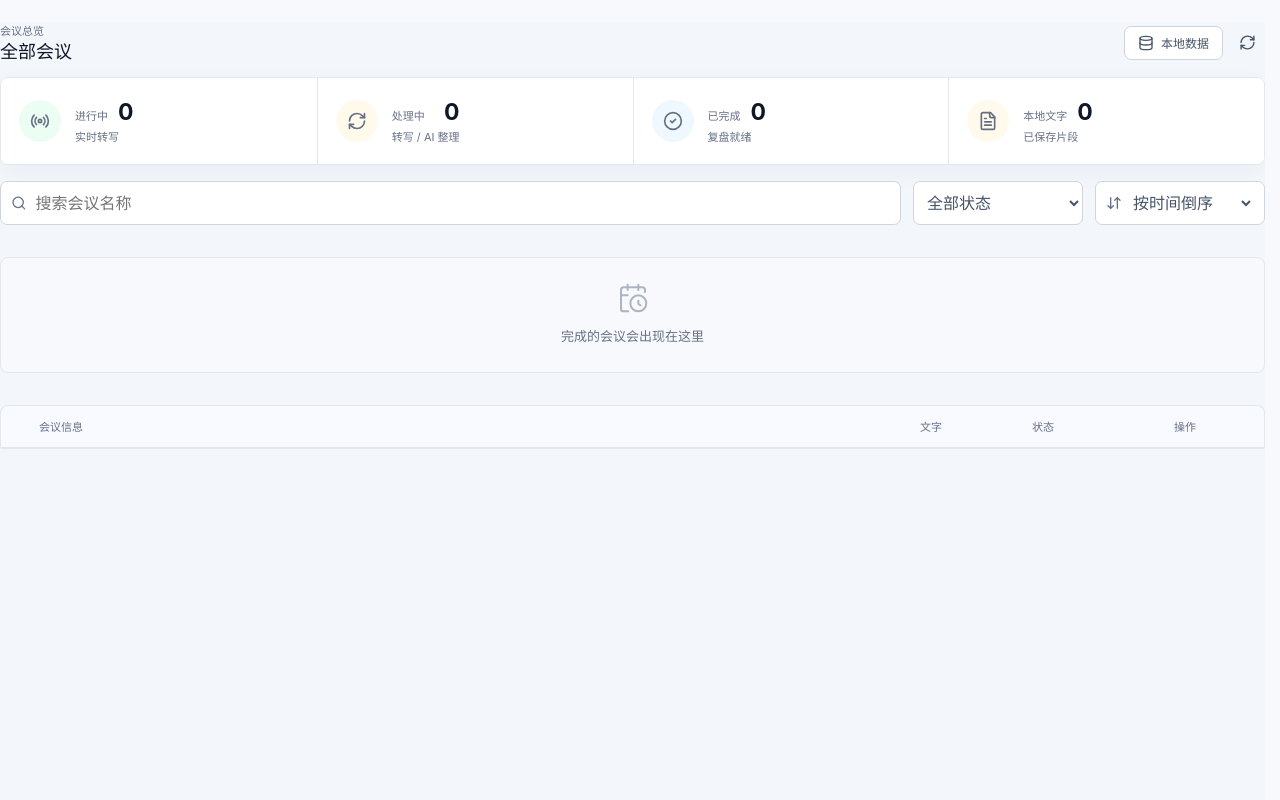
Scenario: MeetingHistory › loads and saves the local retention policy
The width and height of the screenshot is (1280, 800).
Click the button "本地数据": (1174, 43) [1124,26,1223,60]
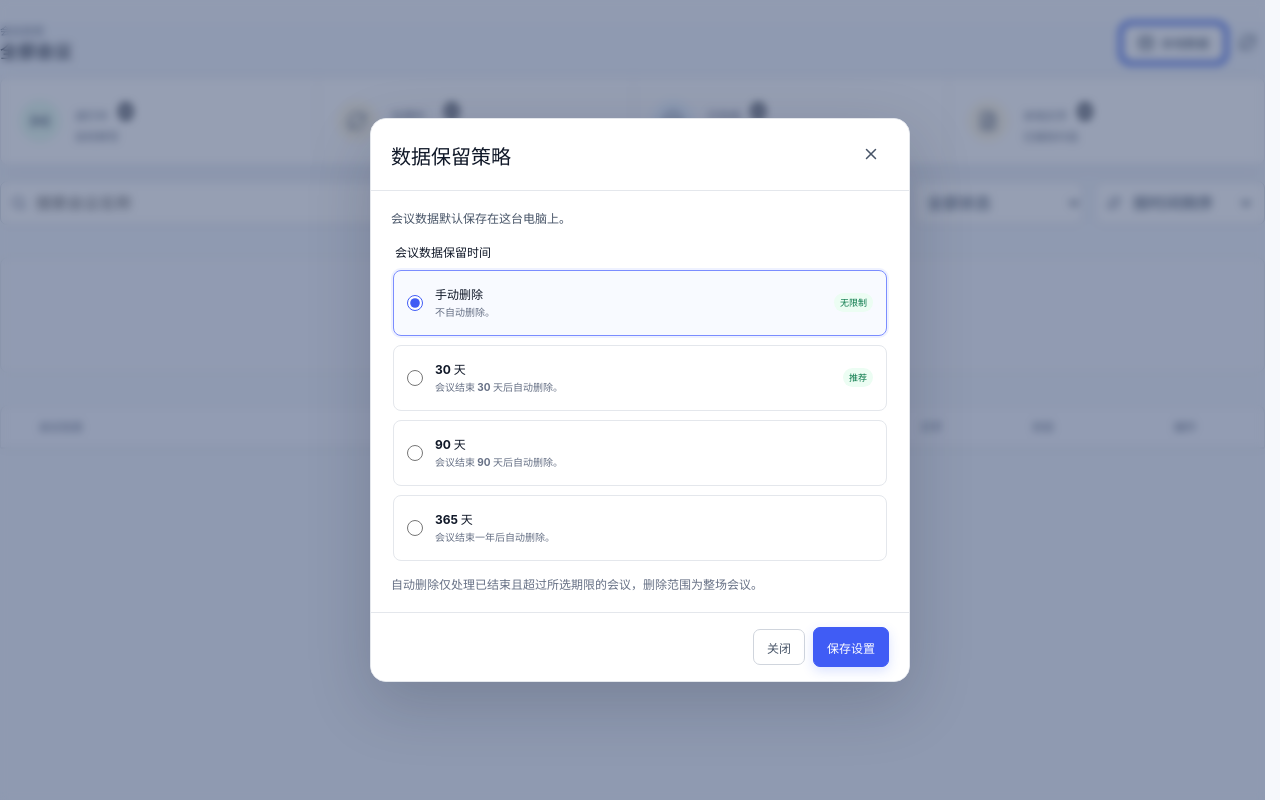
Result: the radio button labelled "手动删除 不自动删除。 无限制" is checked at [407,294,423,310]
Click the radio button labelled "90 天 会议结束 90 天后自动删除。": (415, 452) [407,444,423,460]
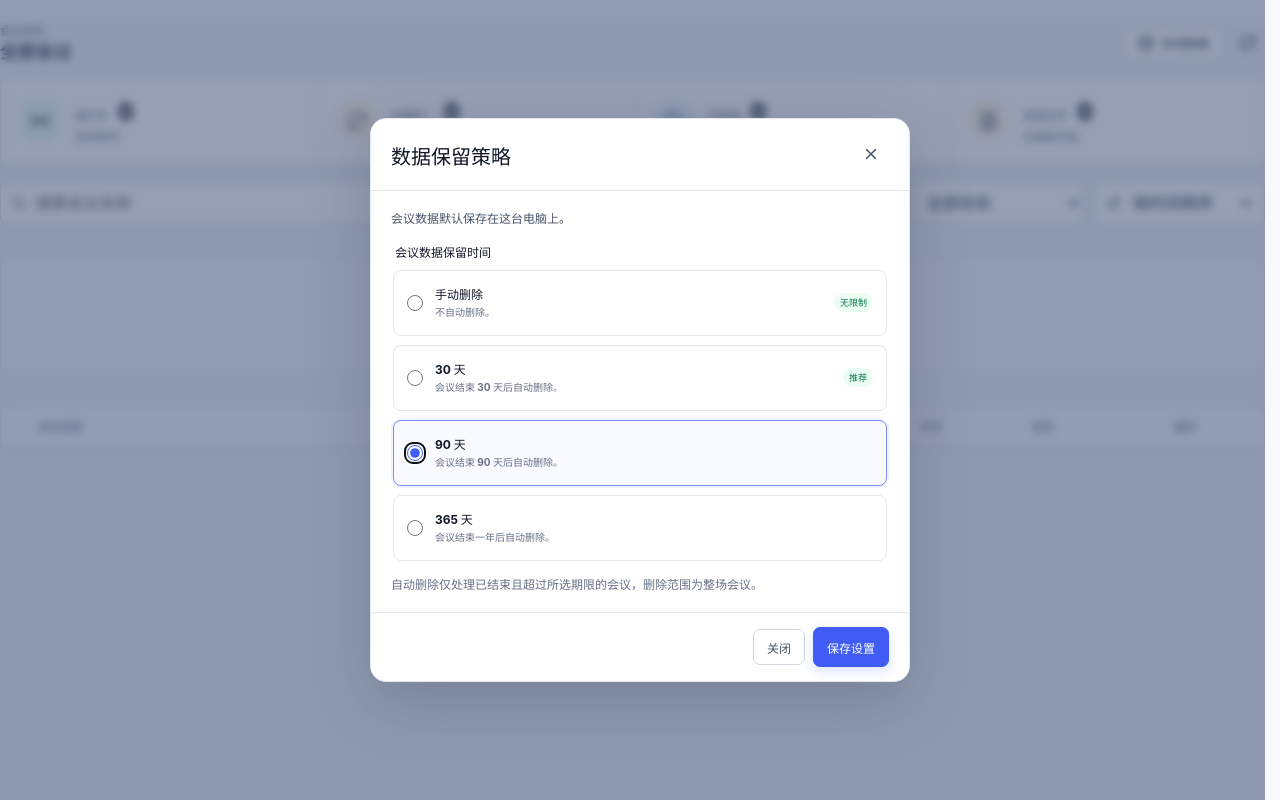
Click the button "保存设置": (851, 647) [813,627,889,667]
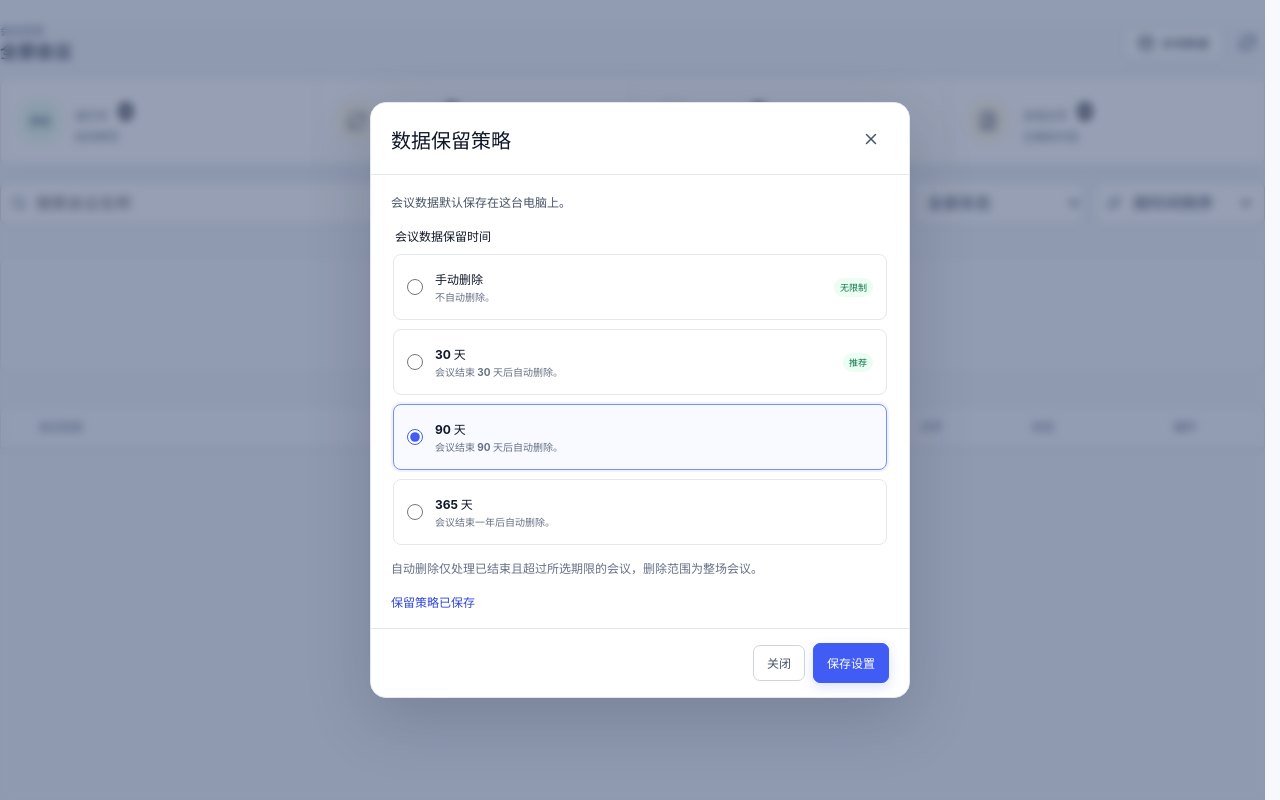
Result: the radio button labelled "90 天 会议结束 90 天后自动删除。" is checked at [407,429,423,445]
Result: the text "保留策略已保存" is shown at [391,595,475,610]
